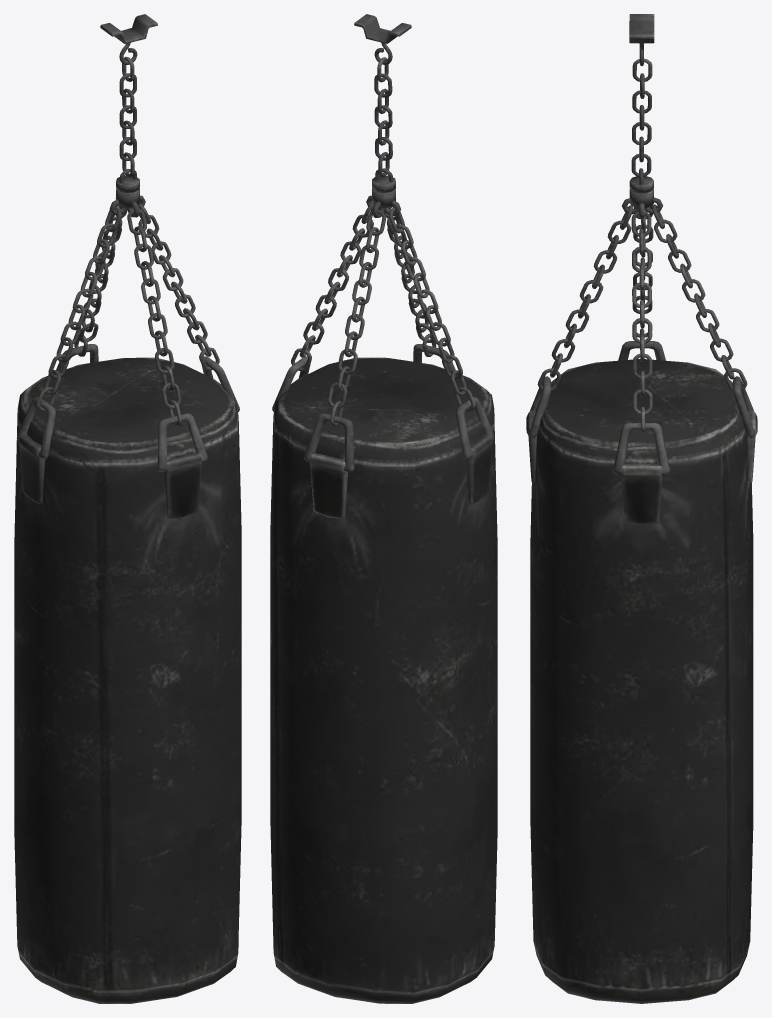
The model's file is boxing-bag.glb.
3 views of the same model, side by side, from view 1: azimuth 30°, elevation 25°; view 2: azimuth 150°, elevation 25°; view 3: azimuth 270°, elevation 25° (orthographic).
Visible parts, largest first — view 1: holders_low_saco_0; view 2: holders_low_saco_0; view 3: holders_low_saco_0.
Part boxes in pixels (x1=…): holders_low_saco_0: x1=14, y1=14, x2=241, y2=1003; holders_low_saco_0: x1=270, y1=14, x2=497, y2=1003; holders_low_saco_0: x1=526, y1=14, x2=757, y2=1003.
Size of the model in its own units: 0.5381 by 2.37 by 0.5305.
Materials: 1 (1 with a texture image).
